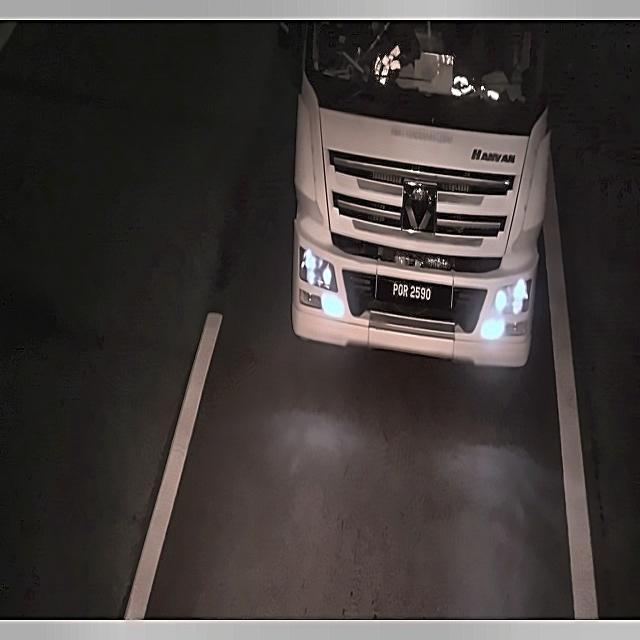car: (379, 272, 442, 314)
